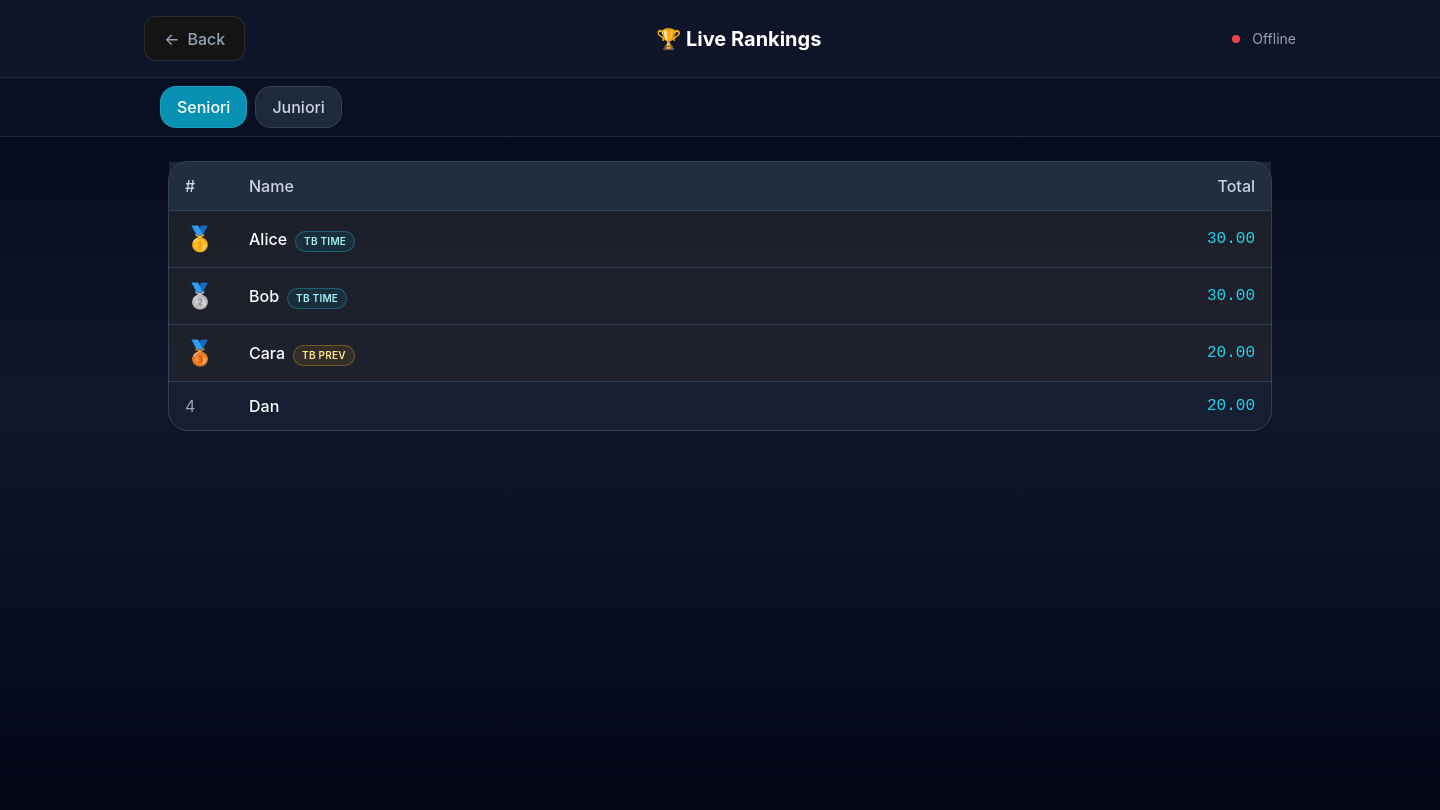
PublicRankings TB interactive badges › opens TB Prev popover with previous-rank details
This screenshot has width=1440, height=810.
Expected: the text "Cara" is shown, [249, 341, 285, 365]
Step 1. Click the button with aria-label "TB Prev details for Cara" → (324,355), box [293, 345, 355, 366]
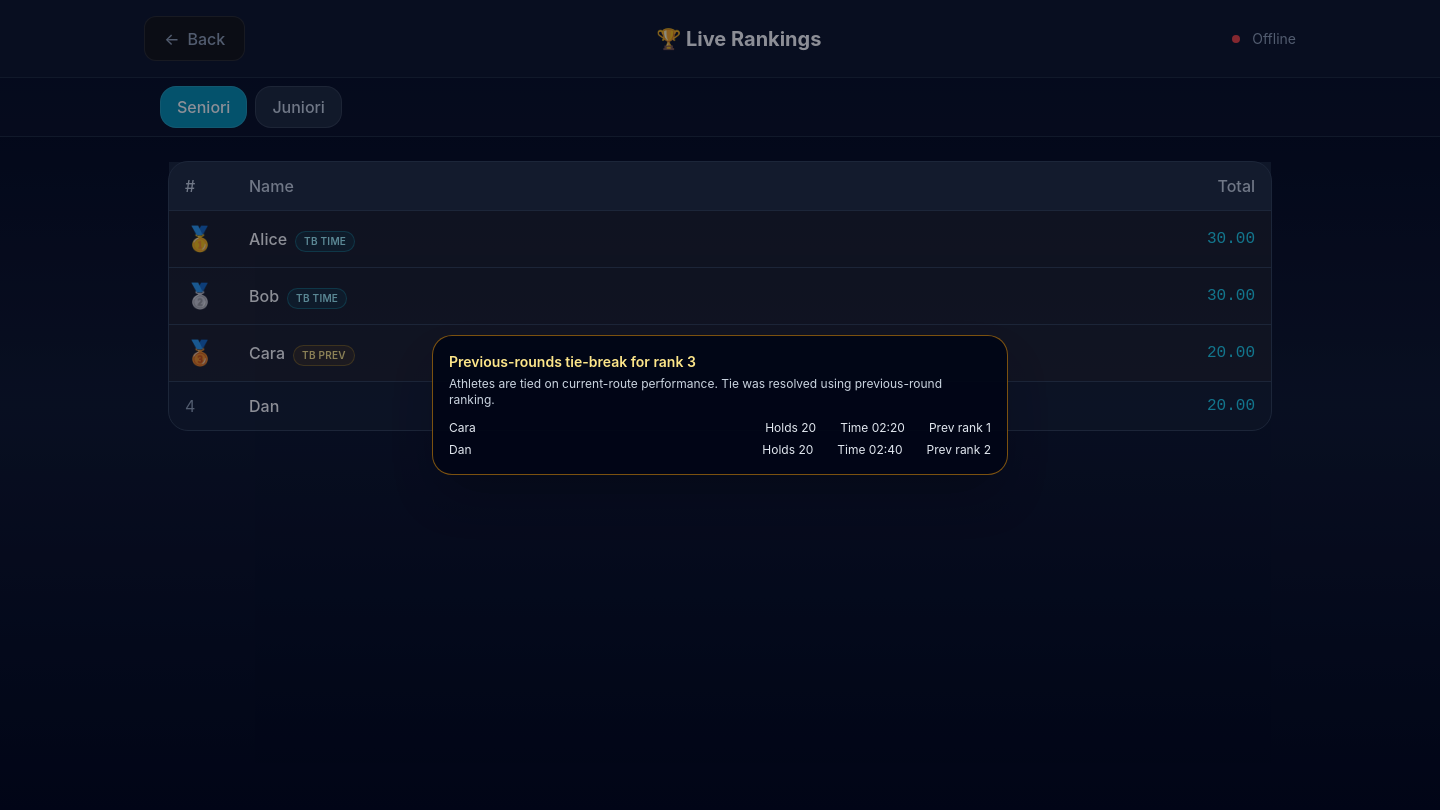
Expected: the text "Previous-rounds tie-break for rank 3" is shown, [449, 353, 696, 370]
Expected: the text "Prev rank 1" is shown, [929, 420, 991, 436]
Expected: the text "Prev rank 2" is shown, [926, 442, 991, 458]
